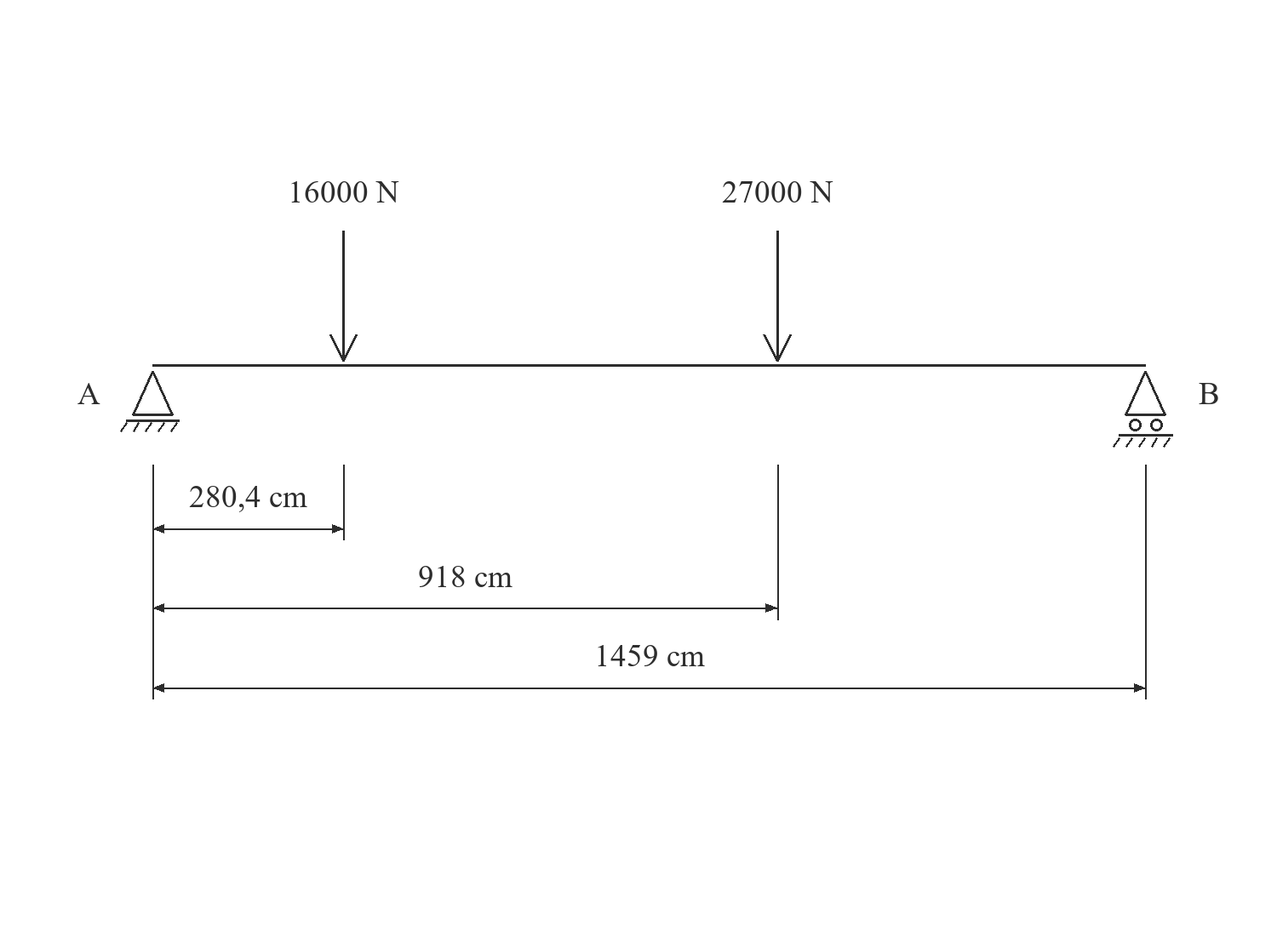pin_support: (120, 371, 180, 432)
point_load: (329, 231, 358, 362), (763, 231, 792, 362)
roller_support: (1113, 371, 1173, 448)
